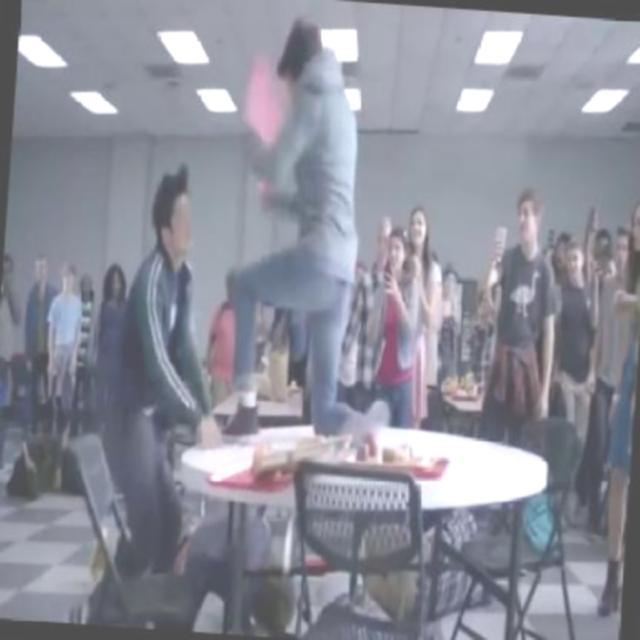fight: (112, 4, 374, 427)
non-fight: (476, 186, 566, 434), (592, 192, 638, 634), (362, 196, 450, 419), (15, 250, 88, 416)
